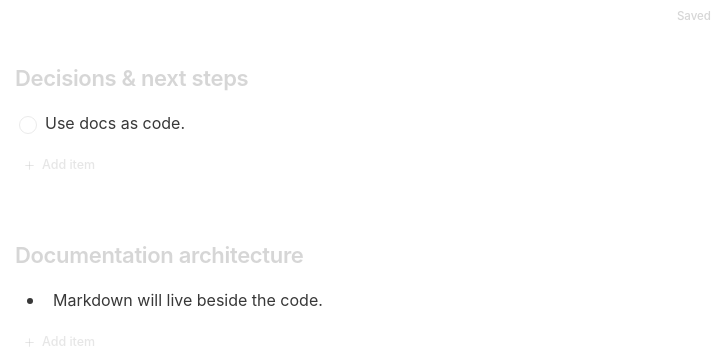
Scenario: MeetingNotesDocument › autosaves a meaningful inline edit after a short idle delay
Later steps or results of the test are not shown.
Press the mouse on the element with class "meeting-markdown-preview" showing "Use docs as code." at (115, 123), box [45,113,185,133]
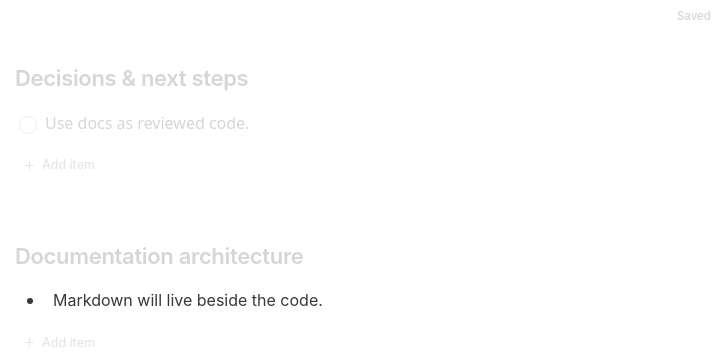
expect the text box named "Edit item: Use docs as code." is shown: met, box [45,111,697,136]
